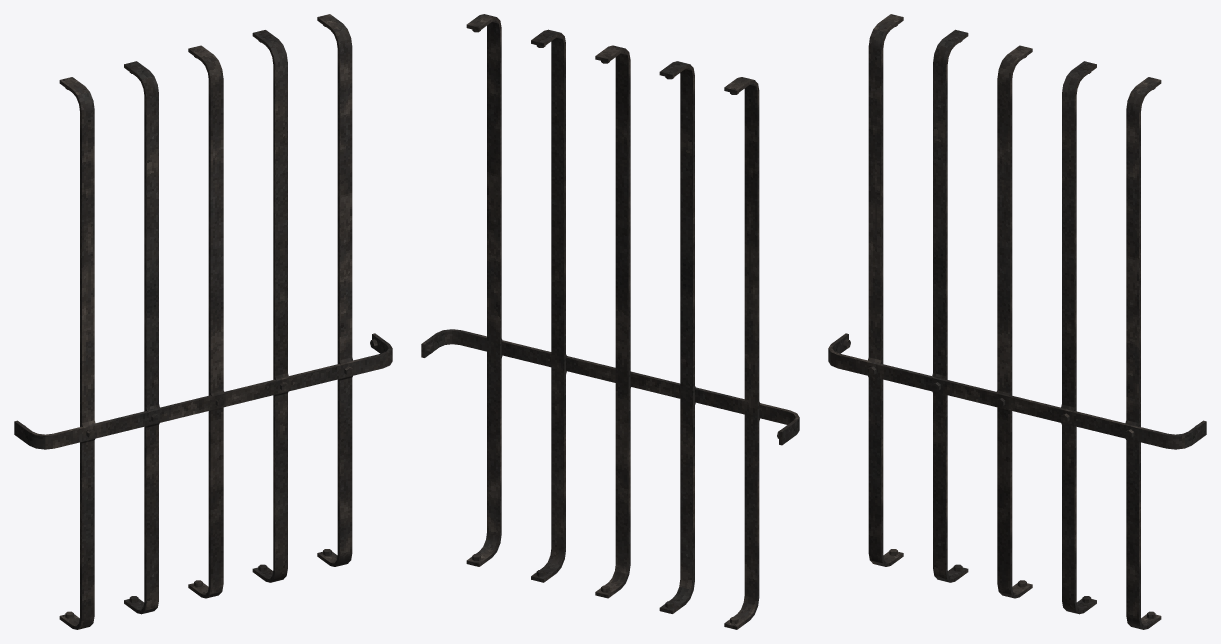
File: window_metal_bars_single.glb
3 renders of one model, left to right at view 1: azimuth 30°, elevation 25°; view 2: azimuth 150°, elevation 25°; view 3: azimuth 330°, elevation 25°, orthographic.
Visible parts, largest first — view 1: window_metal_bars_single; view 2: window_metal_bars_single; view 3: window_metal_bars_single.
Boxes of the visible parts, x1=… form: window_metal_bars_single: x1=14, y1=14, x2=392, y2=629; window_metal_bars_single: x1=421, y1=14, x2=799, y2=629; window_metal_bars_single: x1=828, y1=14, x2=1206, y2=629.
Size of the model in its own units: 1.12 by 1.6 by 0.141.
Materials: 1 (1 with a texture image).
